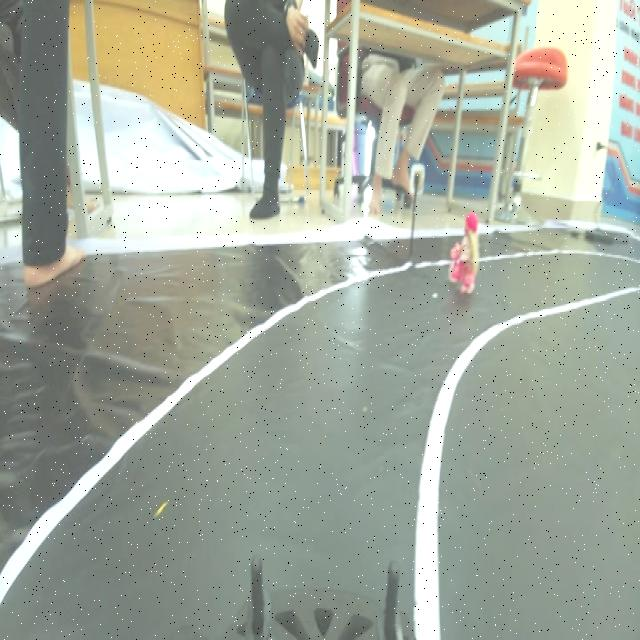pedestrian: (449, 210, 481, 311)
